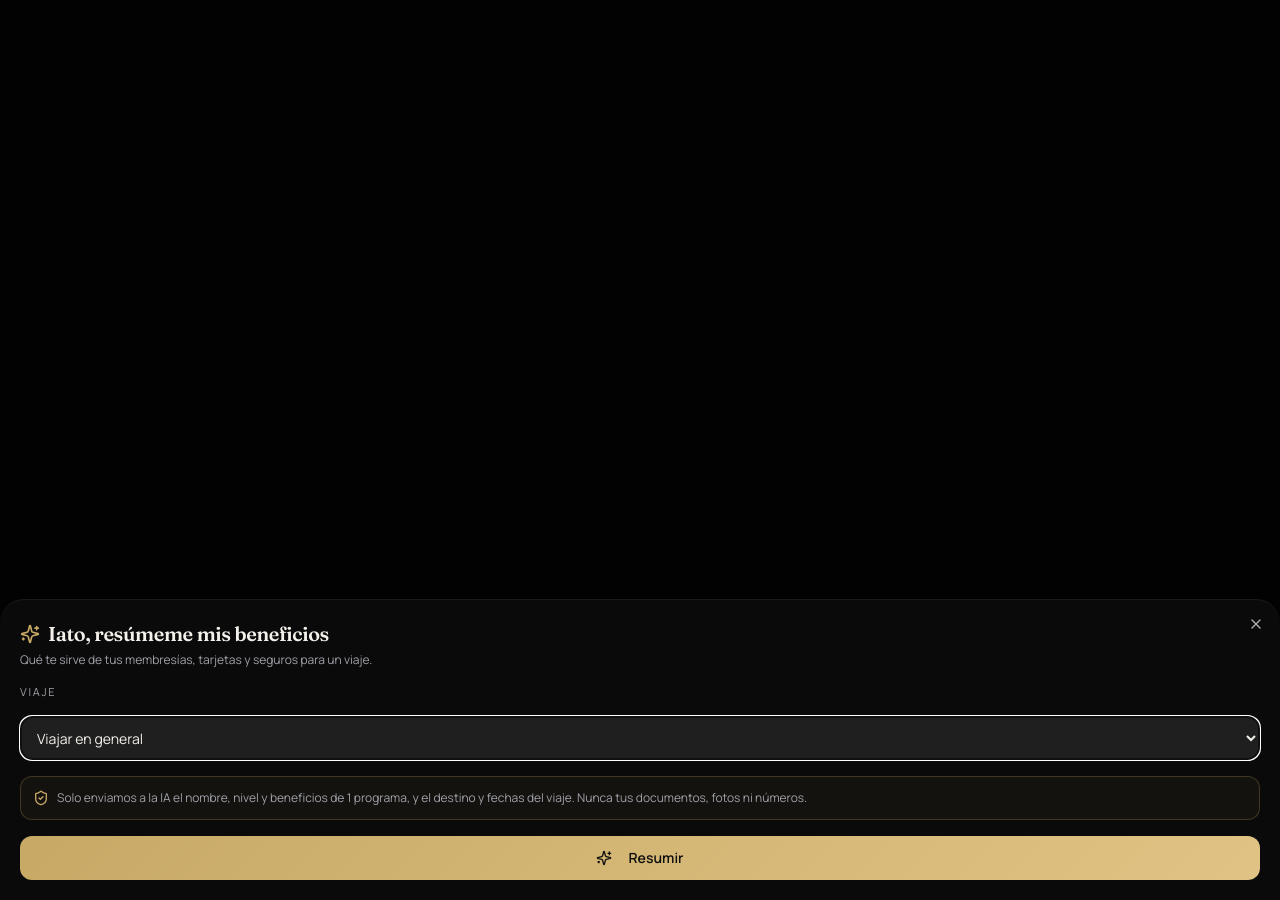
Test: P2-3 el resumen de Iato se ve con formato › no muestra asteriscos crudos
Click the button "Resumir": {"x": 640, "y": 858} [20,836,1260,880]
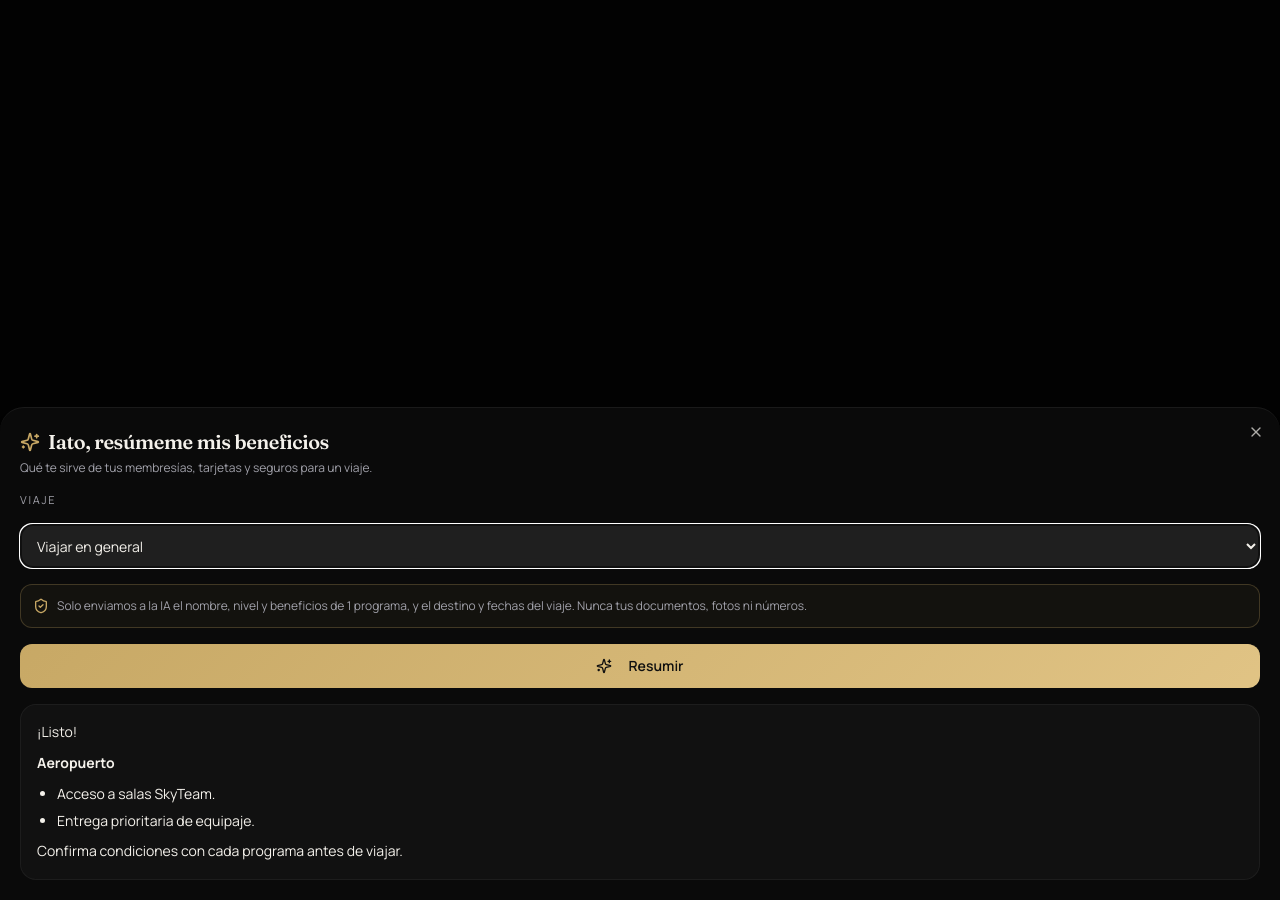
Check: the text "Aeropuerto" is shown, box [37,753,115,772]
Check: the number of list items is 2, box [57,784,215,803]; [57,810,255,830]
